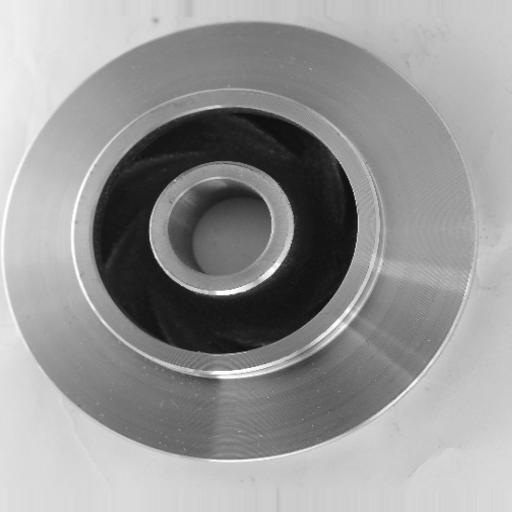polished_casting: (0, 18, 480, 462)
